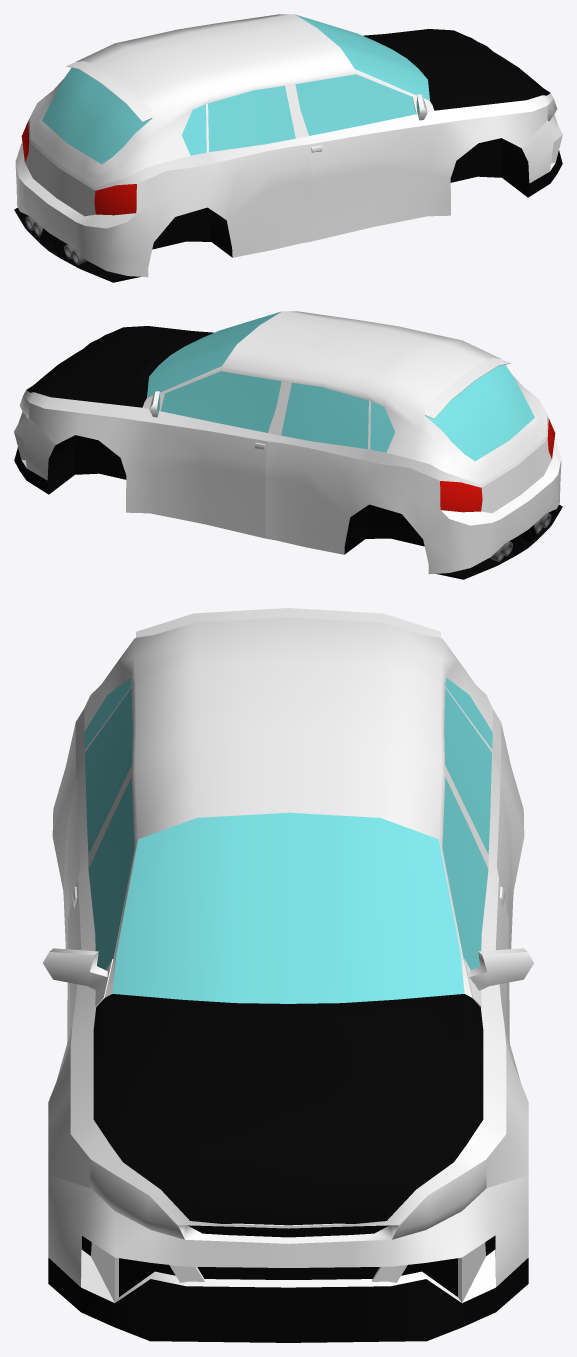
File: Gc14_Body_3.fbx
The picture shows the model from 3 angles, top to bottom: view 1: azimuth 30°, elevation 25°; view 2: azimuth 150°, elevation 25°; view 3: azimuth 270°, elevation 25°; orthographic projection. The views are drawn at different scales.
Visible parts, largest first — view 1: Cube; view 2: Cube; view 3: Cube.
Part boxes in pixels (x1,y1,x2,y2): Cube: (14,14,562,282); Cube: (14,311,562,579); Cube: (43,608,533,1342).
Bounding box in the file's own units: 328 × 110 × 145.
